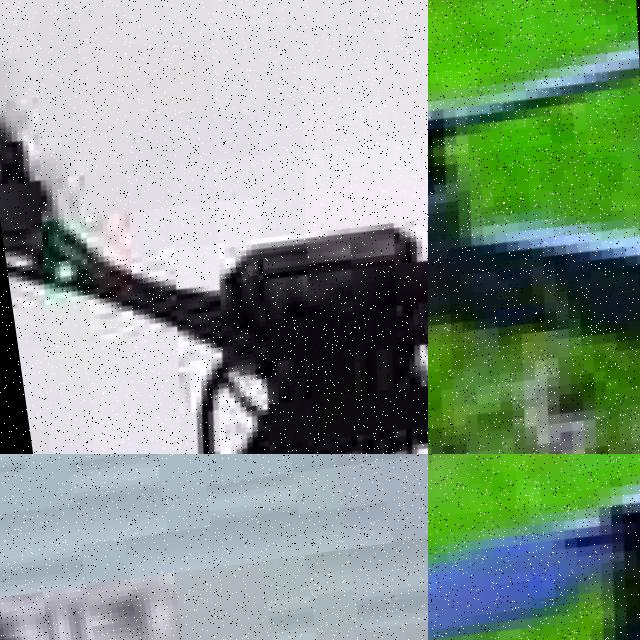0: (0, 0, 428, 454)
drone: (428, 0, 640, 454), (428, 454, 640, 640)
